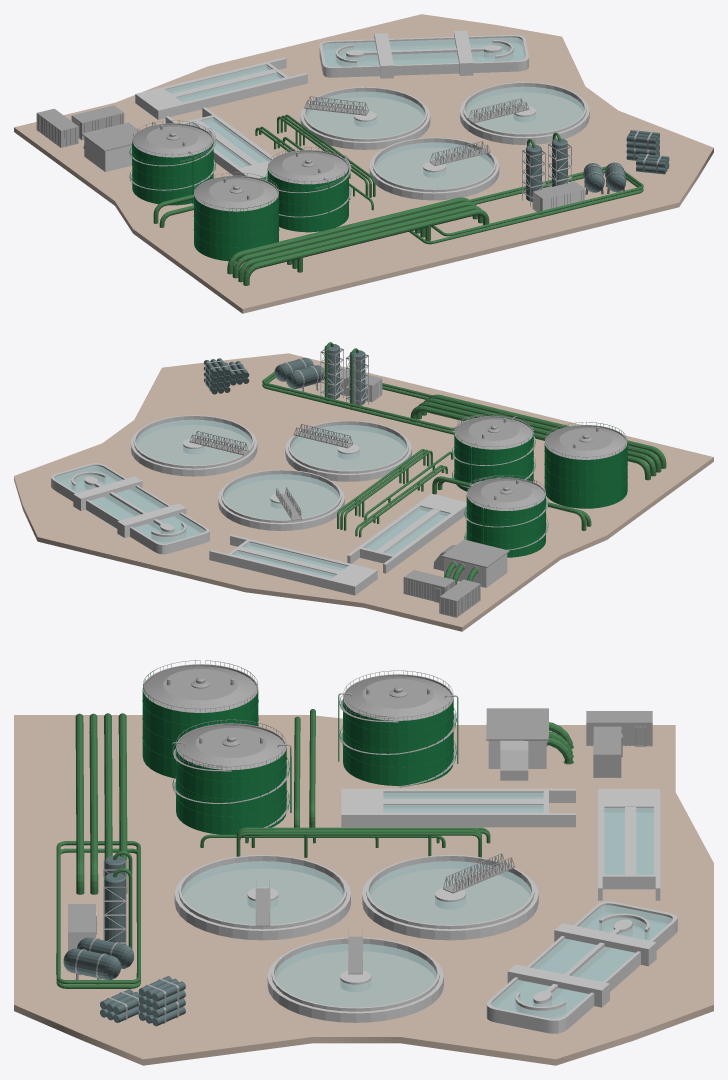
Rendered from 2015.08.26.1124_Treatment.fbx.
The picture shows the model from 3 angles, top to bottom: view 1: azimuth 30°, elevation 25°; view 2: azimuth 150°, elevation 25°; view 3: azimuth 270°, elevation 25°; orthographic projection. The views are drawn at different scales.
Parts seen in each view (by area): view 1: pCube11, treatment:polySurface1, pCube5, pCube13, pCube8, pCube1, pCube14, pCube10, pCylinder1, pCube12, pCube6, pCube7 (+1 smaller); view 2: pCube11, treatment:polySurface1, pCube13, pCube8, pCube1, pCube5, pCube10, pCube14, pCube6, pCube7, pCube12, pCube2 (+1 smaller); view 3: pCube11, treatment:polySurface1, pCube1, pCube8, pCube5, pCube13, pCube14, pCube10, pCube6, pCube7, pCube2, pCylinder1 (+1 smaller).
Part boxes in pixels (box(x1,y1,x2,y2)): pCube11: box(14, 14, 713, 313); treatment:polySurface1: box(36, 82, 669, 285); pCube5: box(319, 35, 528, 77); pCube13: box(135, 57, 307, 119); pCube8: box(322, 37, 525, 66); pCube1: box(165, 107, 274, 178); pCube14: box(165, 65, 283, 102); pCube10: box(187, 118, 270, 167); pCylinder1: box(362, 45, 501, 60); pCube12: box(171, 69, 277, 99); pCube6: box(374, 33, 393, 78); pCube7: box(454, 30, 473, 75); pCube11: box(14, 353, 713, 631); treatment:polySurface1: box(131, 342, 666, 617); pCube13: box(209, 535, 377, 595); pCube8: box(54, 466, 205, 543); pCube1: box(347, 493, 466, 573); pCube5: box(51, 463, 209, 554); pCube10: box(364, 506, 449, 554); pCube14: box(233, 542, 347, 578); pCube6: box(117, 503, 186, 537); pCube7: box(73, 476, 142, 510); pCube12: box(238, 547, 341, 576); pCube2: box(376, 509, 440, 552); pCube11: box(14, 715, 713, 1065); treatment:polySurface1: box(56, 660, 652, 1026); pCube1: box(341, 788, 575, 827); pCube8: box(491, 905, 672, 1018); pCube5: box(486, 901, 677, 1033); pCube13: box(598, 789, 660, 900); pCube14: box(604, 808, 653, 874); pCube10: box(383, 792, 543, 812); pCube6: box(554, 923, 656, 966); pCube7: box(507, 964, 609, 1007); pCube2: box(383, 799, 543, 808); pCylinder1: box(533, 928, 620, 1006).
Bounding box in the file's own units: 1234 × 148 × 1061.
